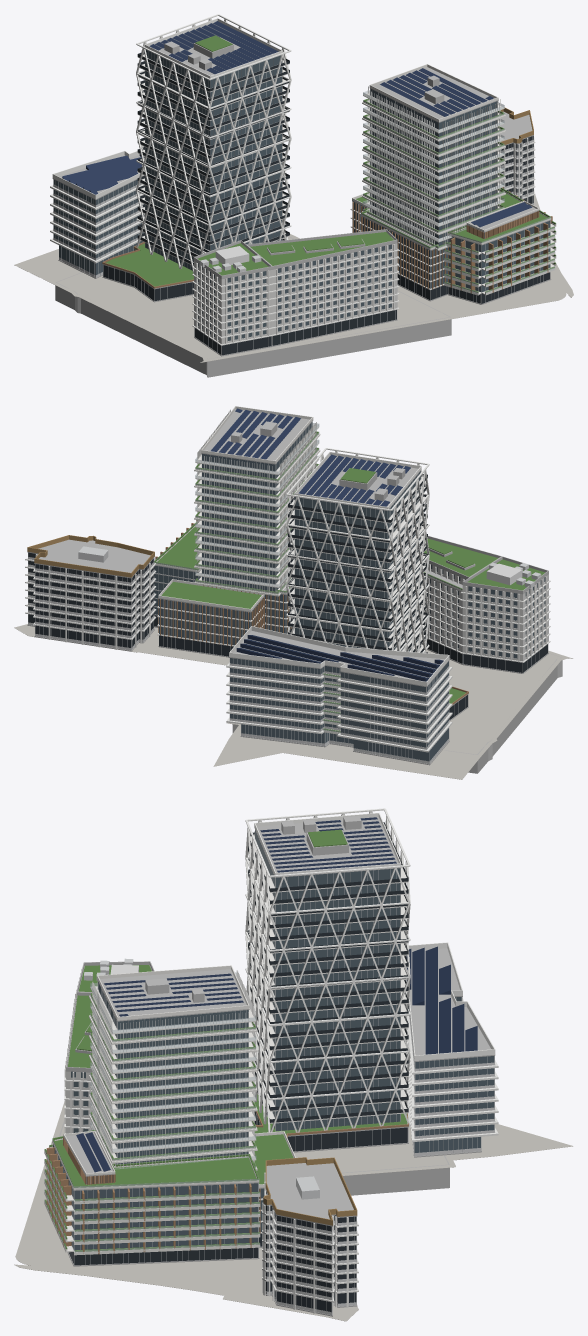
The model's file is model_web.glb.
3 views of the same model, one above another, from view 1: azimuth 30°, elevation 25°; view 2: azimuth 150°, elevation 25°; view 3: azimuth 270°, elevation 25° (orthographic). The views are drawn at different scales.
Visible parts, largest first — view 1: scheme; view 2: scheme; view 3: scheme.
Boxes of the visible parts, x1,y1,x2,y2 form: scheme: [14, 14, 573, 377]; scheme: [14, 406, 573, 779]; scheme: [14, 808, 573, 1321].
Size of the model in its own units: 192 by 92.35 by 154.
